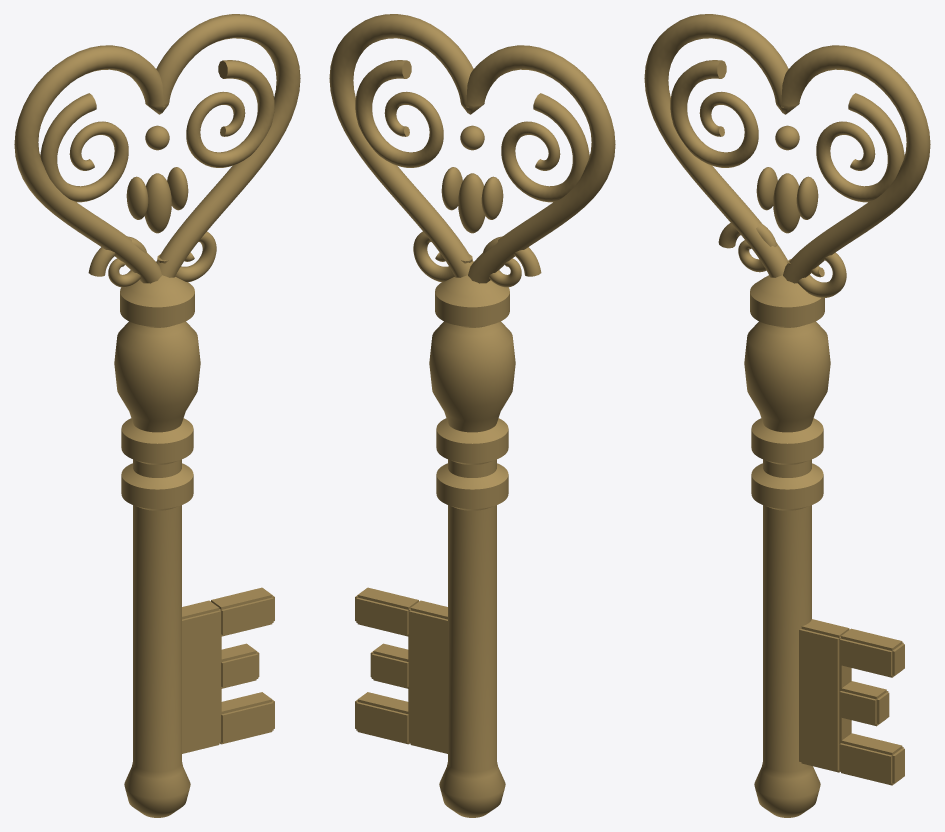
Rendered from schluessel_a.fbx.
The picture shows the model from 3 angles, left to right: view 1: azimuth 30°, elevation 25°; view 2: azimuth 150°, elevation 25°; view 3: azimuth 330°, elevation 25°; orthographic projection.
Parts seen in each view (by area): view 1: Schluessel_A; view 2: Schluessel_A; view 3: Schluessel_A.
Part boxes in pixels (left/top/right/bottom): Schluessel_A: left=14, top=14, right=300, bottom=817; Schluessel_A: left=329, top=14, right=615, bottom=817; Schluessel_A: left=644, top=14, right=930, bottom=817.
Size of the model in its own units: 4.52 by 11.96 by 1.2.
